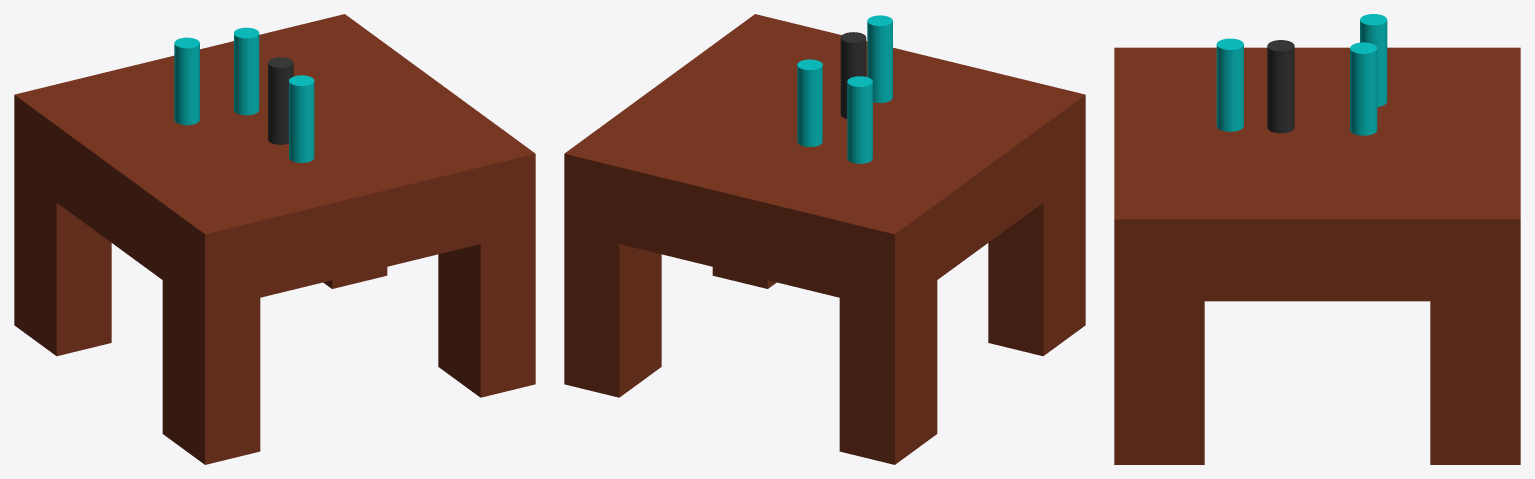
The model's file is can_world_4_cans.dae.
3 renders of one model, left to right at view 1: azimuth 30°, elevation 25°; view 2: azimuth 150°, elevation 25°; view 3: azimuth 270°, elevation 25°, orthographic. The views are drawn at different scales.
Parts seen in each view (by area): view 1: base (×9); view 2: base (×9); view 3: base (×7).
Boxes of the visible parts, x1,y1,x2,y2 form: base (×9): (14, 14, 535, 464); base (×9): (564, 14, 1085, 464); base (×7): (1114, 14, 1520, 464).
Size of the model in its own units: 0.9 by 0.9 by 0.8.
